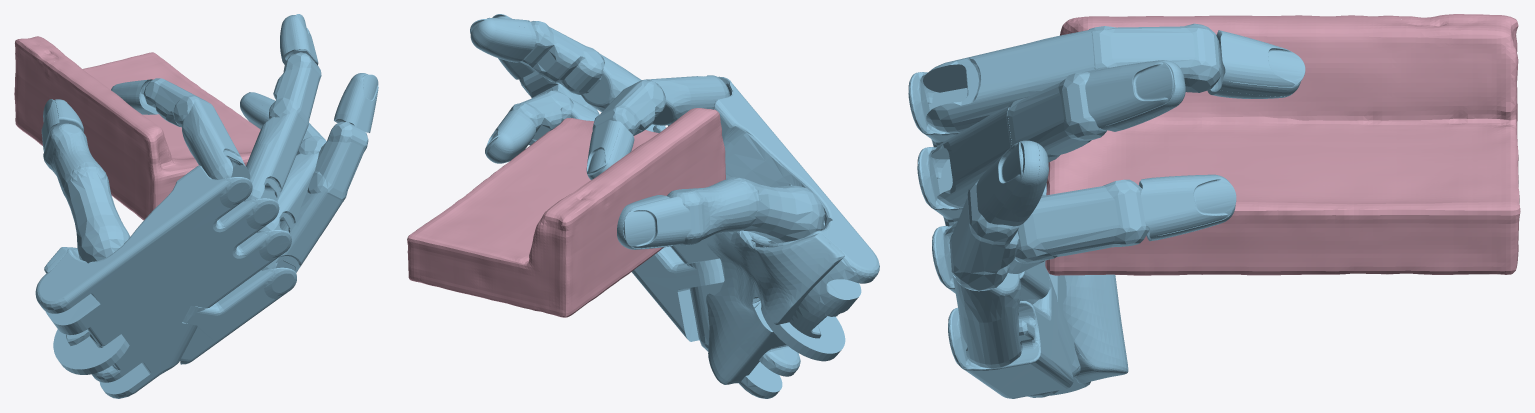
The picture shows the model from 3 angles, left to right: view 1: azimuth 30°, elevation 25°; view 2: azimuth 150°, elevation 25°; view 3: azimuth 270°, elevation 25°; orthographic projection. The views are drawn at different scales.
Parts seen in each view (by area): view 1: hand_isaac_q, world; view 2: hand_isaac_q, world; view 3: world, hand_isaac_q.
Boxes of the visible parts, box(x1,y1,x2,y2) form: hand_isaac_q: box(35, 14, 378, 398); world: box(14, 36, 260, 220); hand_isaac_q: box(470, 14, 879, 398); world: box(407, 108, 725, 317); world: box(1045, 14, 1520, 275); hand_isaac_q: box(908, 23, 1305, 398).
Size of the model in its own units: 0.1823 by 0.1561 by 0.1704.
